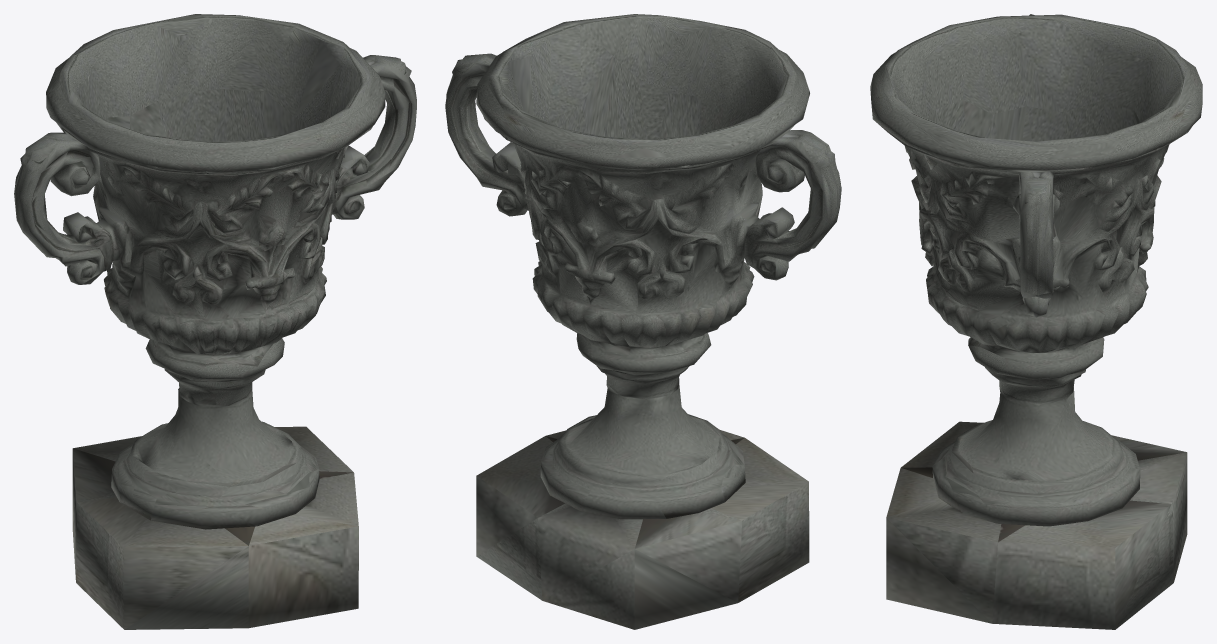
The model's file is urn.glb.
The picture shows the model from 3 angles, left to right: view 1: azimuth 30°, elevation 25°; view 2: azimuth 150°, elevation 25°; view 3: azimuth 270°, elevation 25°; orthographic projection.
Parts seen in each view (by area): view 1: body; view 2: body; view 3: body.
Part boxes in pixels (x1,y1,x2,y2): body: [14, 14, 416, 629]; body: [445, 14, 841, 629]; body: [870, 14, 1202, 629].
Bounding box in the file's own units: 1.02 × 1.2 × 0.7407.
1 material, 1 textured.
